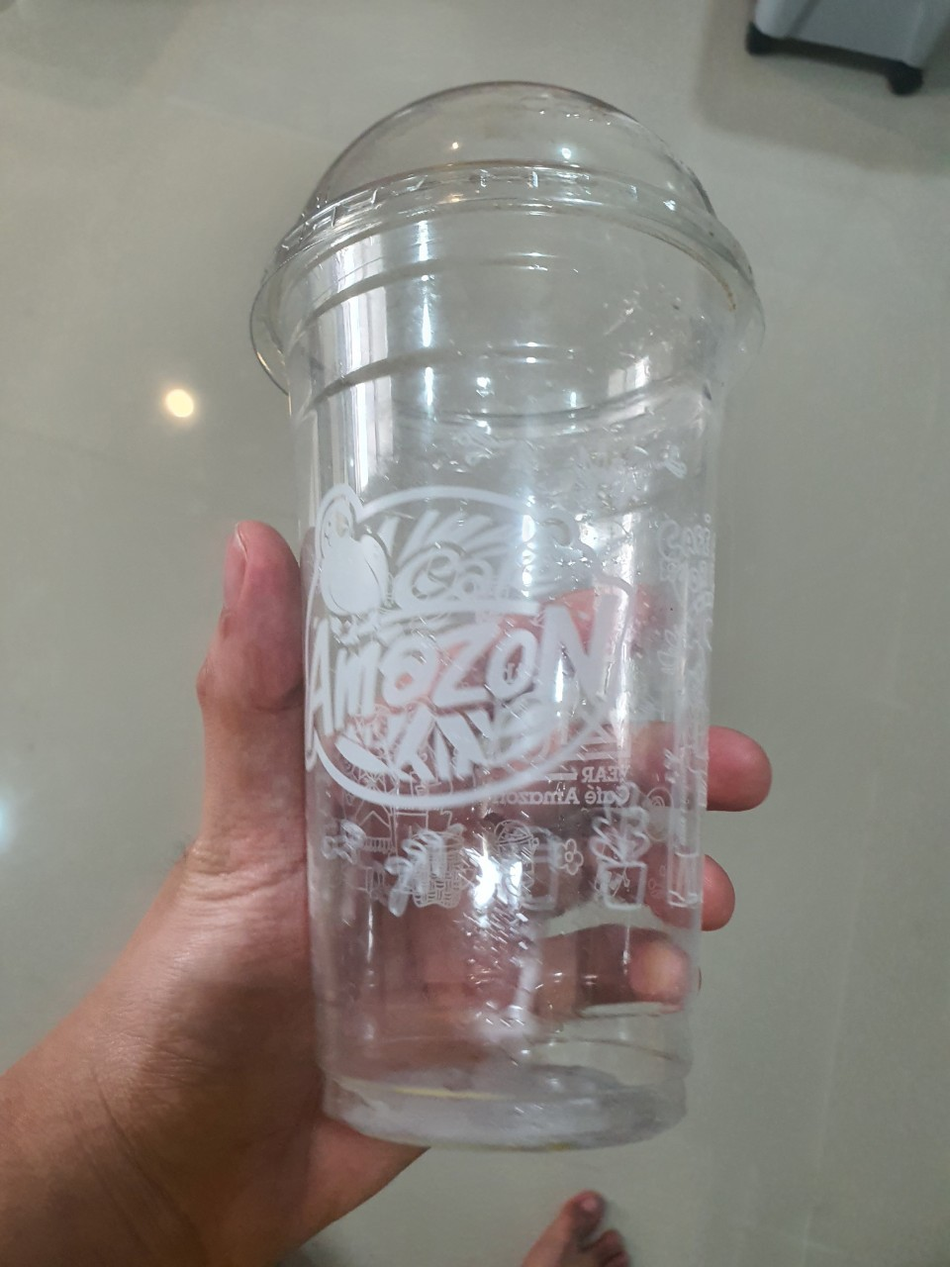plastic: (222, 54, 786, 1184)
